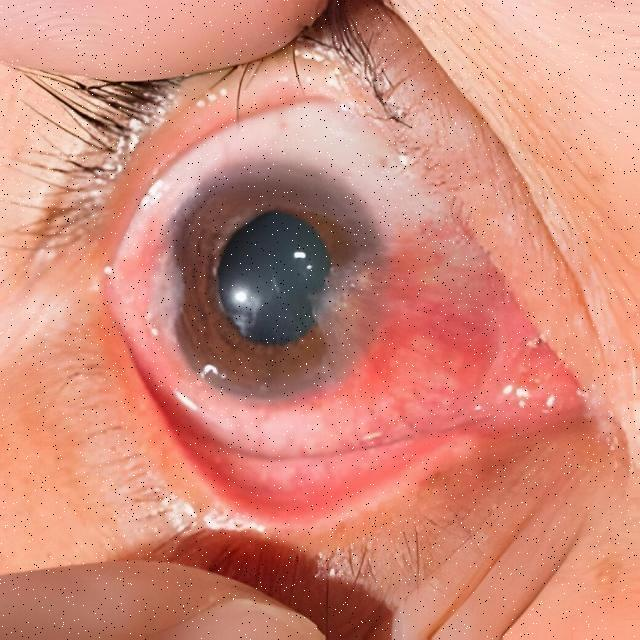Pterygium: (292, 224, 548, 436), (85, 216, 202, 354)
